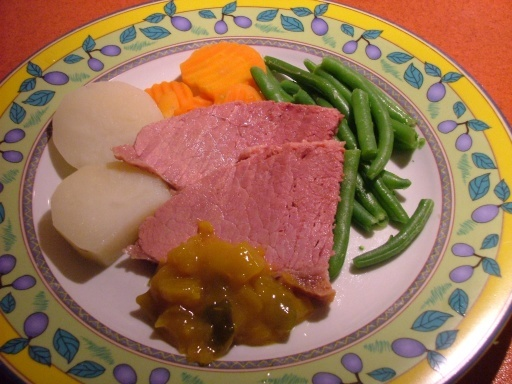background: (39, 24, 347, 219)
